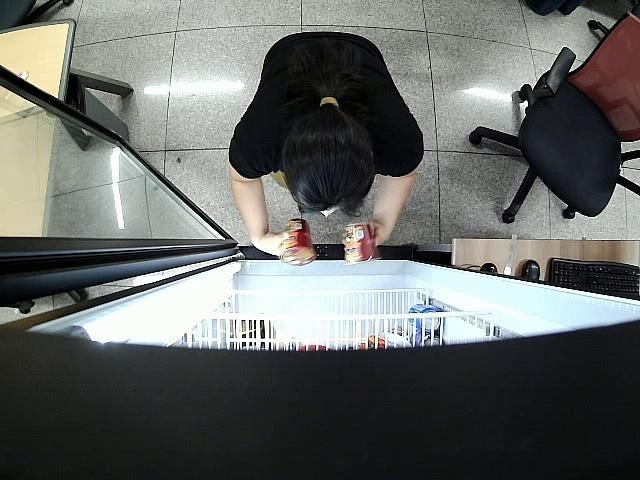06_nuguri_S: (282, 217, 317, 267), (343, 219, 378, 266)
